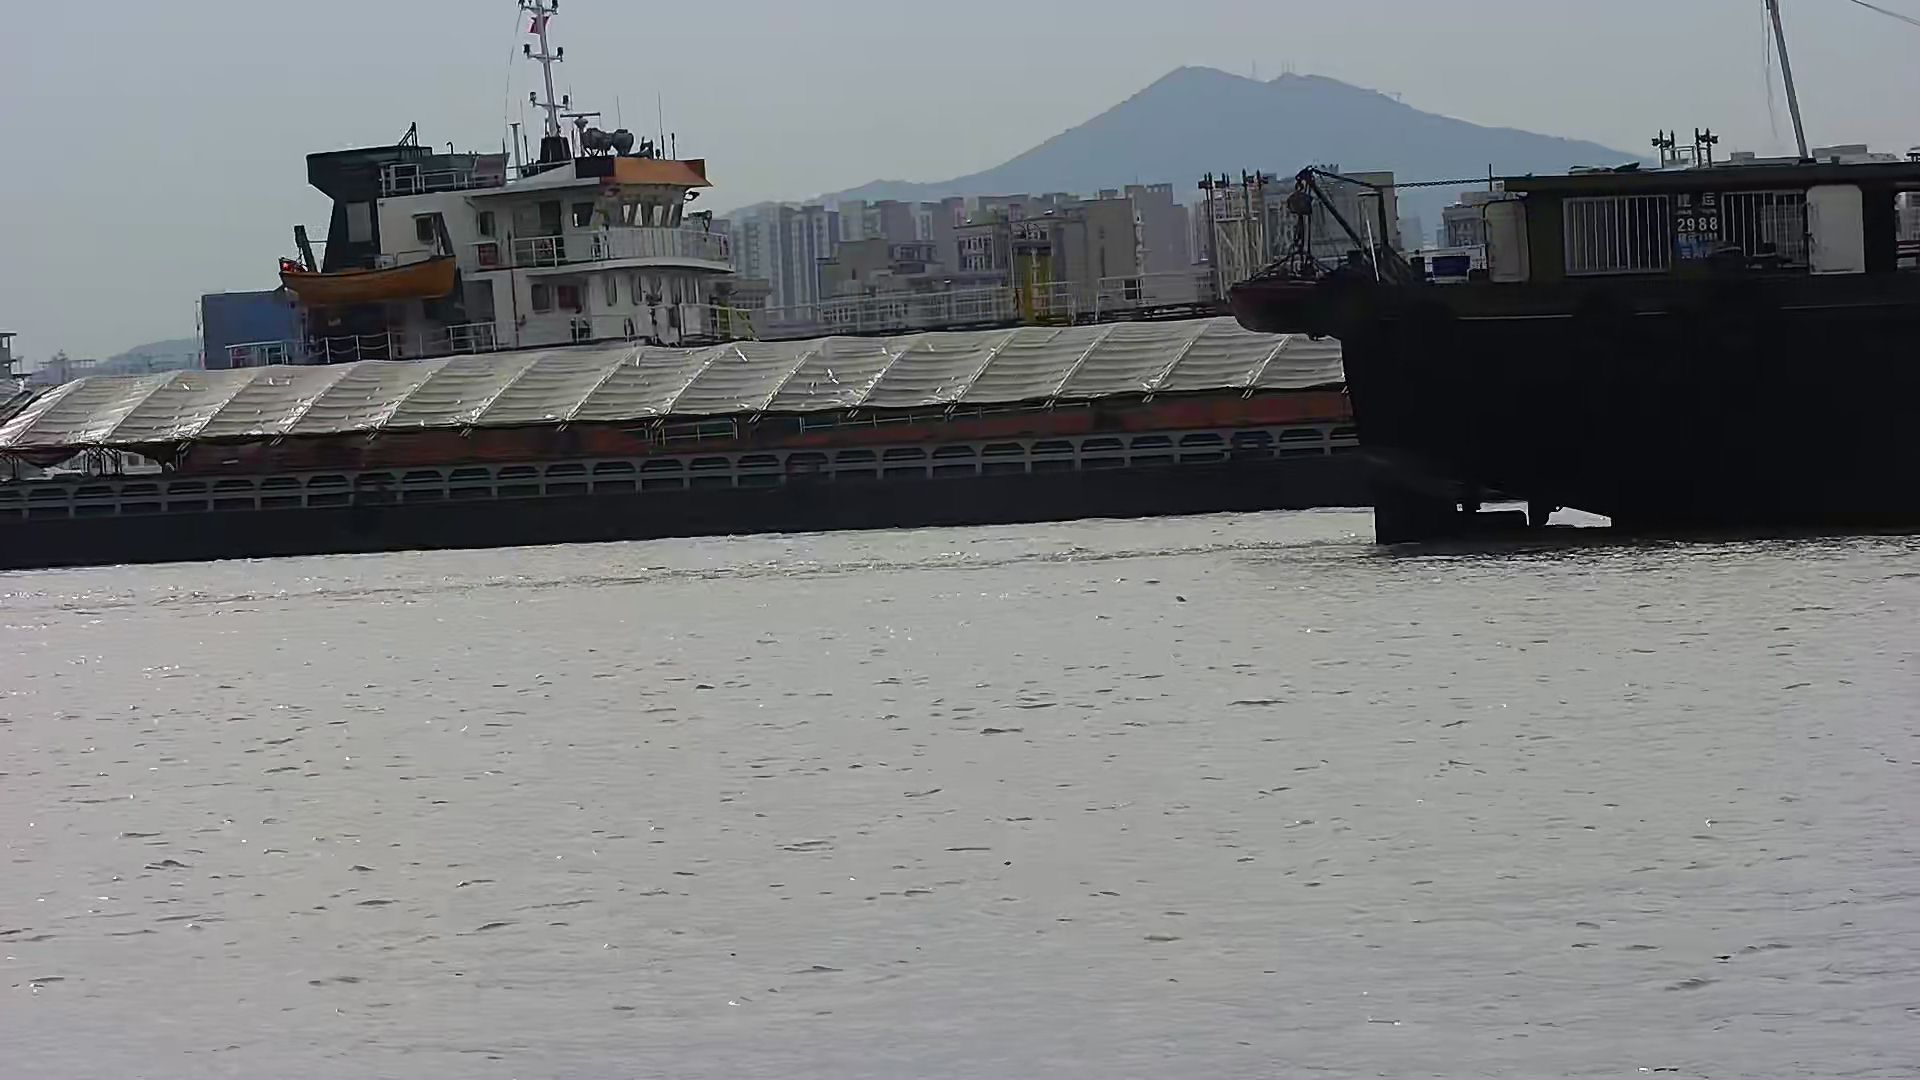ship: (1230, 3, 1920, 545)
